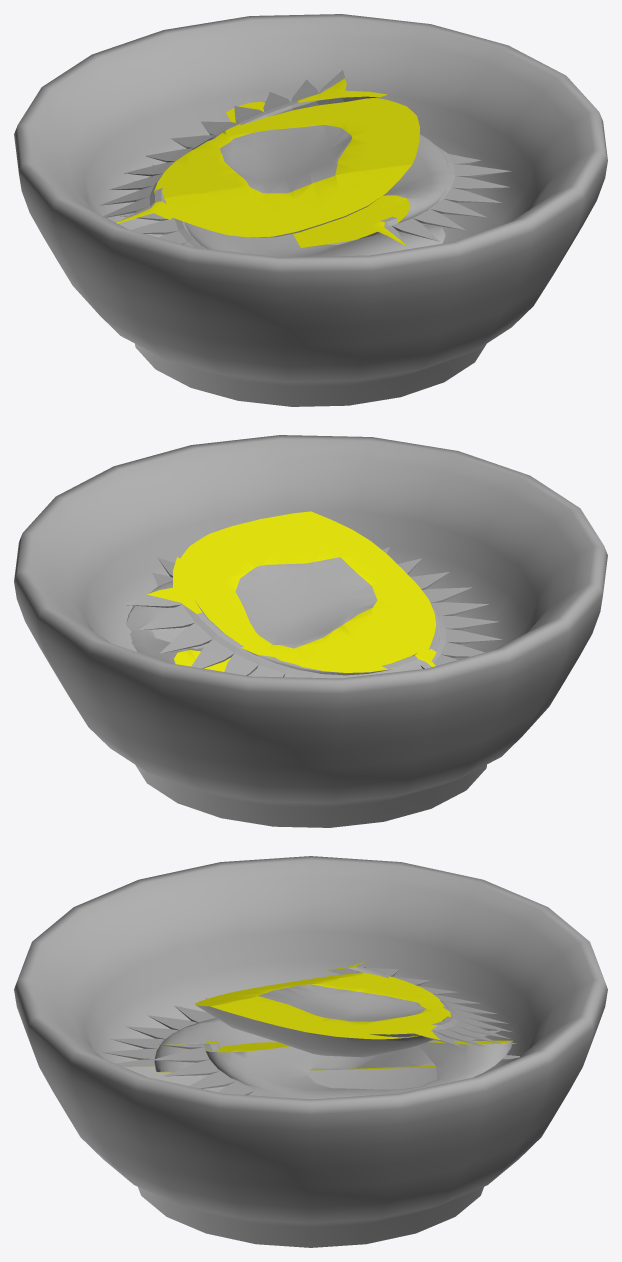
Rendered from CutSunflowerInBowl.fbx.
3 renders of one model, top to bottom at view 1: azimuth 30°, elevation 25°; view 2: azimuth 150°, elevation 25°; view 3: azimuth 270°, elevation 25°, orthographic.
Parts seen in each view (by area): view 1: cuenco, In (×3), Out (×3); view 2: cuenco, In (×2), Out (×2); view 3: cuenco, In (×3), Out (×3).
Part boxes in pixels (x1,y1,x2,y2): cuenco: (14,14,607,406); In (×3): (154,98,449,257); Out (×3): (99,70,511,248); cuenco: (14,435,607,827); In (×2): (126,511,436,675); Out (×2): (123,547,502,678); cuenco: (14,856,607,1247); In (×3): (154,972,512,1099); Out (×3): (101,962,519,1098).
Bounding box in the file's own units: 44.38 × 16.08 × 44.38.
